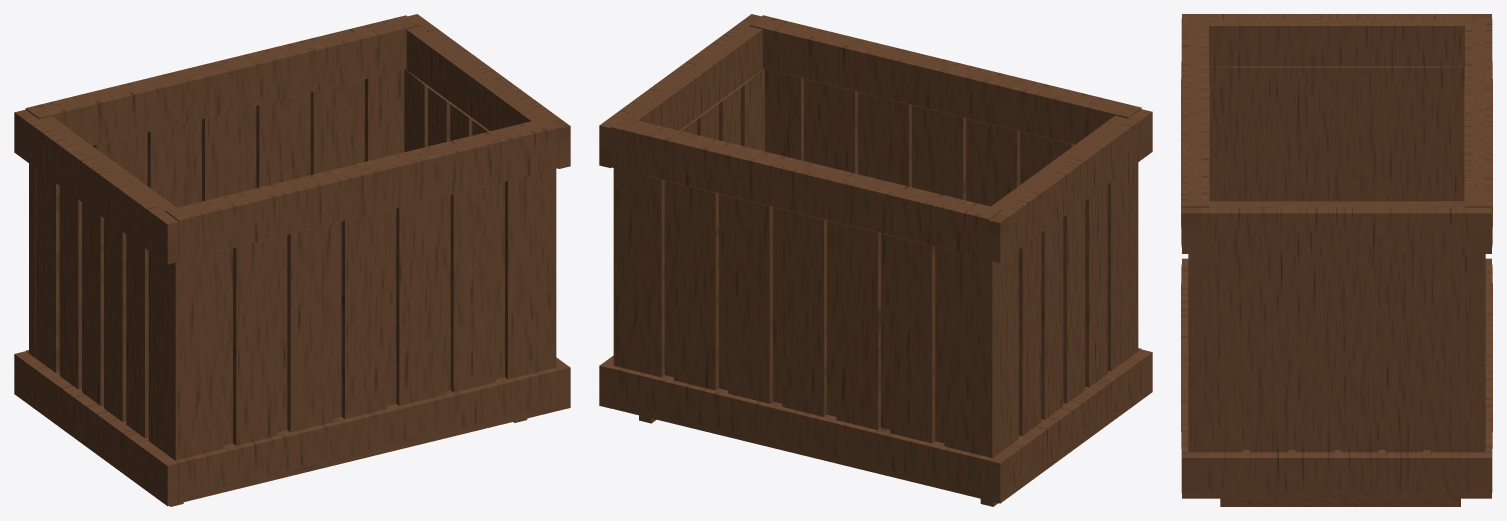
The model's file is storagebox.fbx.
3 views of the same model, side by side, from view 1: azimuth 30°, elevation 25°; view 2: azimuth 150°, elevation 25°; view 3: azimuth 270°, elevation 25° (orthographic).
Parts seen in each view (by area): view 1: pCube8; view 2: pCube8; view 3: pCube8.
Part boxes in pixels (x1=…): pCube8: x1=14, y1=14, x2=570, y2=506; pCube8: x1=599, y1=14, x2=1152, y2=506; pCube8: x1=1181, y1=14, x2=1492, y2=506.
Bounding box in the file's own units: 85.85 × 61.73 × 56.82.
1 material, 1 textured.
